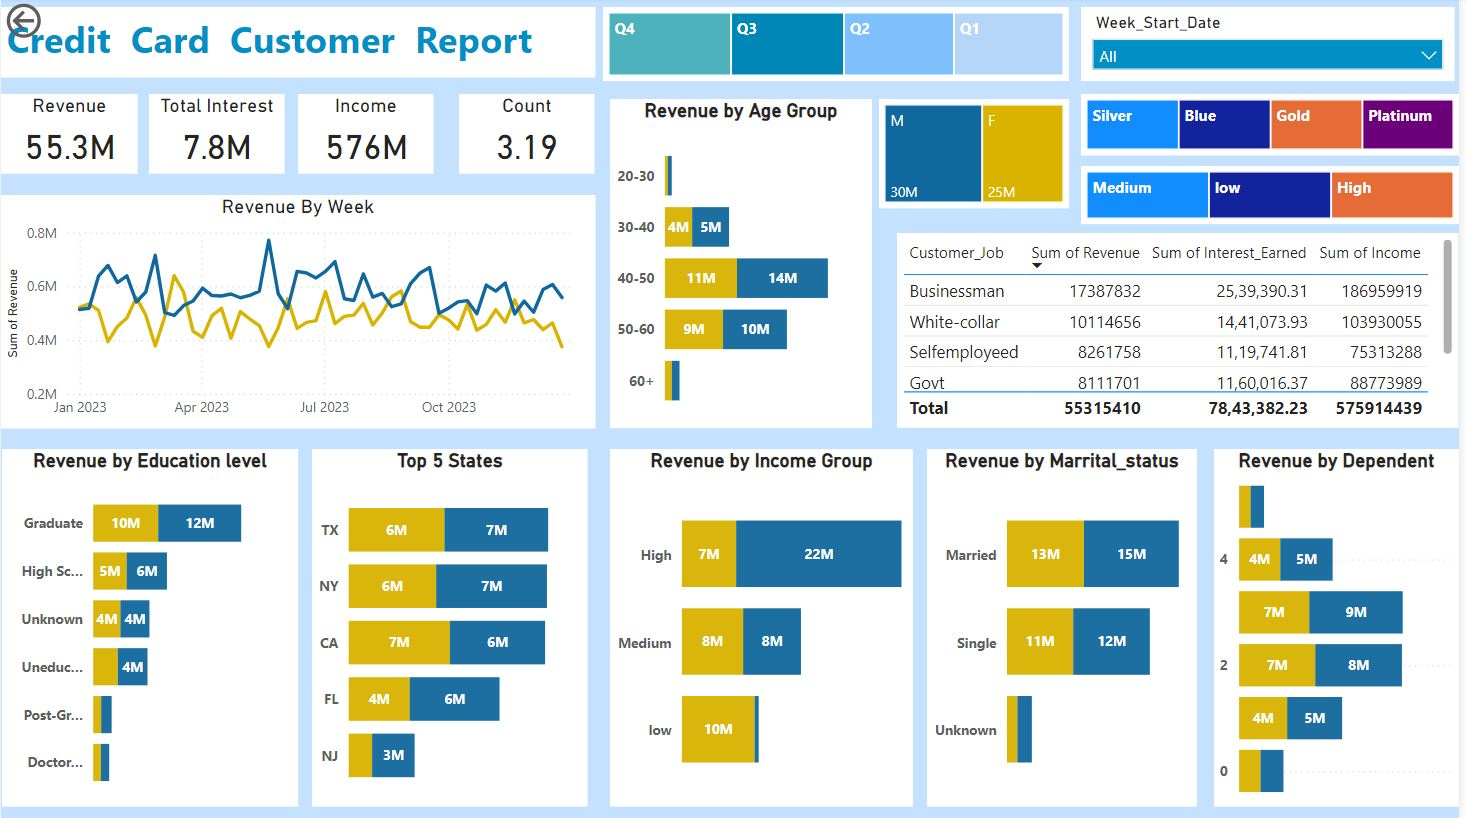

The page's visual inventory and layout, read from the dashboard file:
{"tool":"powerbi","page":{"name":"CC cutomer","canvas":[1280,720],"ordinal":2},"visuals":[{"type":"barChart","title":"Revenue by Income Group","fields":{"Y":["Sum(cc_detail.Revenue)"],"Category":["cust_detail csv.IncomeGroup"],"Series":["cust_detail csv.Gender"]},"box":[534.7,396,266,314.3],"z":0},{"type":"tableEx","fields":{"Values":["cust_detail csv.Customer_Job","Sum(cc_detail.Revenue)","Sum(cc_detail.Interest_Earned)","Sum(cust_detail csv.Income)"]},"box":[786.7,206.3,493.5,171.2],"z":1000},{"type":"card","title":"Revenue","fields":{"Values":["Sum(cc_detail.Revenue)"]},"box":[0,84.3,120.3,70.2],"z":2000},{"type":"card","title":"Total Interest","fields":{"Values":["Sum(cc_detail.Interest_Earned)"]},"box":[130,84.3,119.4,70.2],"z":3000},{"type":"card","title":"Count","fields":{"Values":["Avg(cust_detail csv.Cust_Satisfaction_Score)"]},"box":[402.1,84.3,119.4,70.2],"z":4000},{"type":"card","title":"Income","fields":{"Values":["Sum(cust_detail csv.Income)"]},"box":[260.8,84.3,119.4,70.2],"z":5000},{"type":"slicer","fields":{"Values":["cc_detail.Week_Start_Date"]},"box":[947.9,8.1,328.1,65.4],"z":6000},{"type":"treemap","fields":{"Group":["cc_detail.Qtr"],"Values":["Avg(cc_detail.Client_Num)"]},"box":[528.6,7.9,409.2,65],"z":7000},{"type":"treemap","fields":{"Values":["Avg(cc_detail.Client_Num)"],"Group":["cc_detail.Card_Category"]},"box":[948.3,84.3,331.9,53.6],"z":9000},{"type":"treemap","fields":{"Values":["Avg(cc_detail.Client_Num)"],"Group":["cust_detail csv.IncomeGroup"]},"box":[948.3,147.5,331.9,50.9],"z":10000},{"type":"textbox","box":[0,7.9,521.6,62.3],"z":11000},{"type":"lineChart","title":"Revenue By Week","fields":{"Y":["Sum(cc_detail.Revenue)"],"Series":["cust_detail csv.Gender"],"Category":["cc_detail.Week_Start_Date.Variation.Date Hierarchy.Year","cc_detail.Week_Start_Date.Variation.Date Hierarchy.Month","cc_detail.Week_Start_Date.Variation.Date Hierarchy.Day"]},"box":[0,173,521.6,204.6],"z":12000},{"type":"treemap","fields":{"Group":["cust_detail csv.Gender"],"Values":["Sum(cc_detail.Revenue)"]},"box":[770.9,88.7,166.8,95.7],"z":13000},{"type":"barChart","title":"Revenue by Age Group","fields":{"Y":["Sum(cc_detail.Revenue)"],"Category":["cust_detail csv.AgeGroup"],"Series":["cust_detail csv.Gender"]},"box":[534.7,88.7,230,288.9],"z":14000},{"type":"barChart","title":"Revenue by Dependent ","fields":{"Y":["Sum(cc_detail.Revenue)"],"Category":["cust_detail csv.Dependent_Count"],"Series":["cust_detail csv.Gender"]},"box":[1065.1,396,215.1,314.3],"z":15000},{"type":"barChart","title":"Revenue by Education level","fields":{"Y":["Sum(cc_detail.Revenue)"],"Category":["cust_detail csv.Education_Level"],"Series":["cust_detail csv.Gender"]},"box":[0.9,396,259.9,314.3],"z":16000},{"type":"barChart","title":"Top 5 States","fields":{"Y":["Sum(cc_detail.Revenue)"],"Category":["cust_detail csv.state_cd"],"Series":["cust_detail csv.Gender"]},"box":[273.1,396,242.3,314.3],"z":17000},{"type":"actionButton","box":[0,0,100,40],"z":17001},{"type":"barChart","title":"Revenue by Marrital_status","fields":{"Y":["Sum(cc_detail.Revenue)"],"Category":["cust_detail csv.Marital_Status"],"Series":["cust_detail csv.Gender"]},"box":[813.1,396,237.1,314.3],"z":17002}]}

Visuals, with their boxes in screenshot pixels (x1, y1, x2, y2), scaled from the page's 1280x720 canvas onto the 1467x818 screenshot:
"Revenue by Income Group" barChart: x1=613 y1=450 x2=918 y2=807
tableEx - cust_detail csv.Customer_Job x Sum(cc_detail.Revenue): x1=902 y1=234 x2=1466 y2=429
"Revenue" card: x1=0 y1=96 x2=138 y2=176
"Total Interest" card: x1=149 y1=96 x2=286 y2=176
"Count" card: x1=461 y1=96 x2=598 y2=176
"Income" card: x1=299 y1=96 x2=436 y2=176
slicer - cc_detail.Week_Start_Date: x1=1086 y1=9 x2=1462 y2=84
treemap - cc_detail.Qtr x Avg(cc_detail.Client_Num): x1=606 y1=9 x2=1075 y2=83
treemap - Avg(cc_detail.Client_Num) x cc_detail.Card_Category: x1=1087 y1=96 x2=1466 y2=157
treemap - Avg(cc_detail.Client_Num) x cust_detail csv.IncomeGroup: x1=1087 y1=168 x2=1466 y2=225
textbox: x1=0 y1=9 x2=598 y2=80
"Revenue By Week" lineChart: x1=0 y1=197 x2=598 y2=429
treemap - cust_detail csv.Gender x Sum(cc_detail.Revenue): x1=884 y1=101 x2=1075 y2=209
"Revenue by Age Group" barChart: x1=613 y1=101 x2=876 y2=429
"Revenue by Dependent " barChart: x1=1221 y1=450 x2=1466 y2=807
"Revenue by Education level" barChart: x1=1 y1=450 x2=299 y2=807
"Top 5 States" barChart: x1=313 y1=450 x2=591 y2=807
actionButton: x1=0 y1=0 x2=115 y2=45
"Revenue by Marrital_status" barChart: x1=932 y1=450 x2=1204 y2=807
